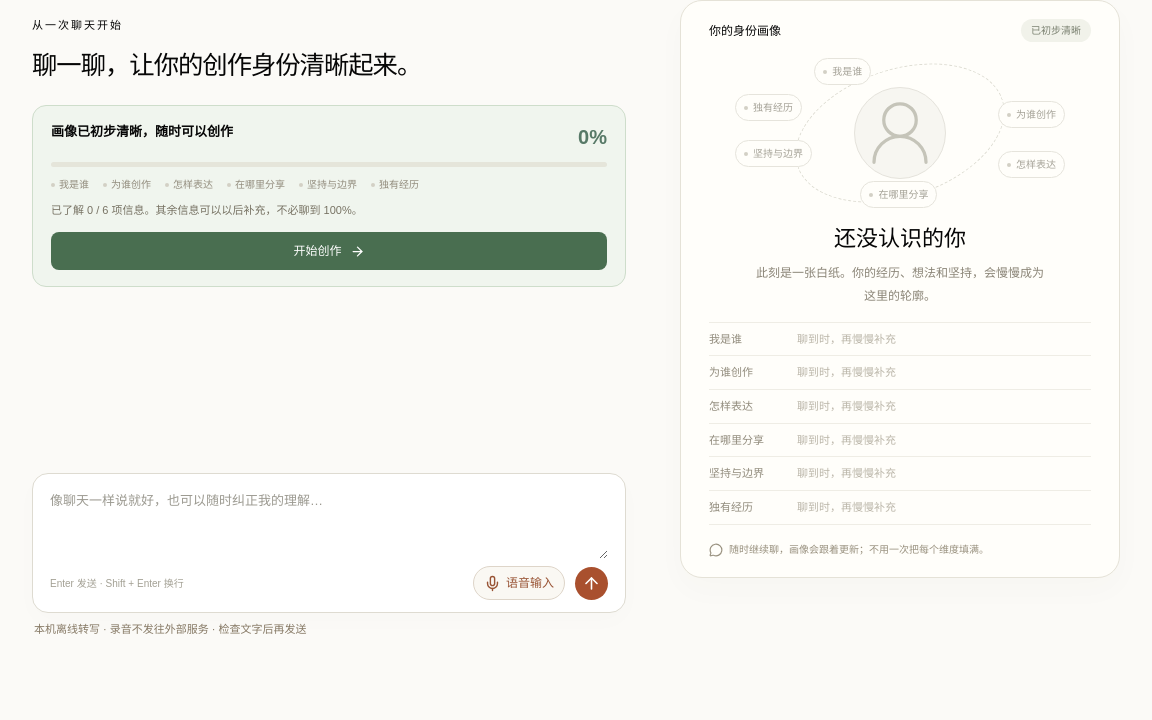
Test: local voice input › keeps original text on transcription failure and never falls back to a remote recognizer
This screenshot has width=1152, height=720.
Type "保留我" into the text box. click: (329, 524)
box: [50,489,608,559]
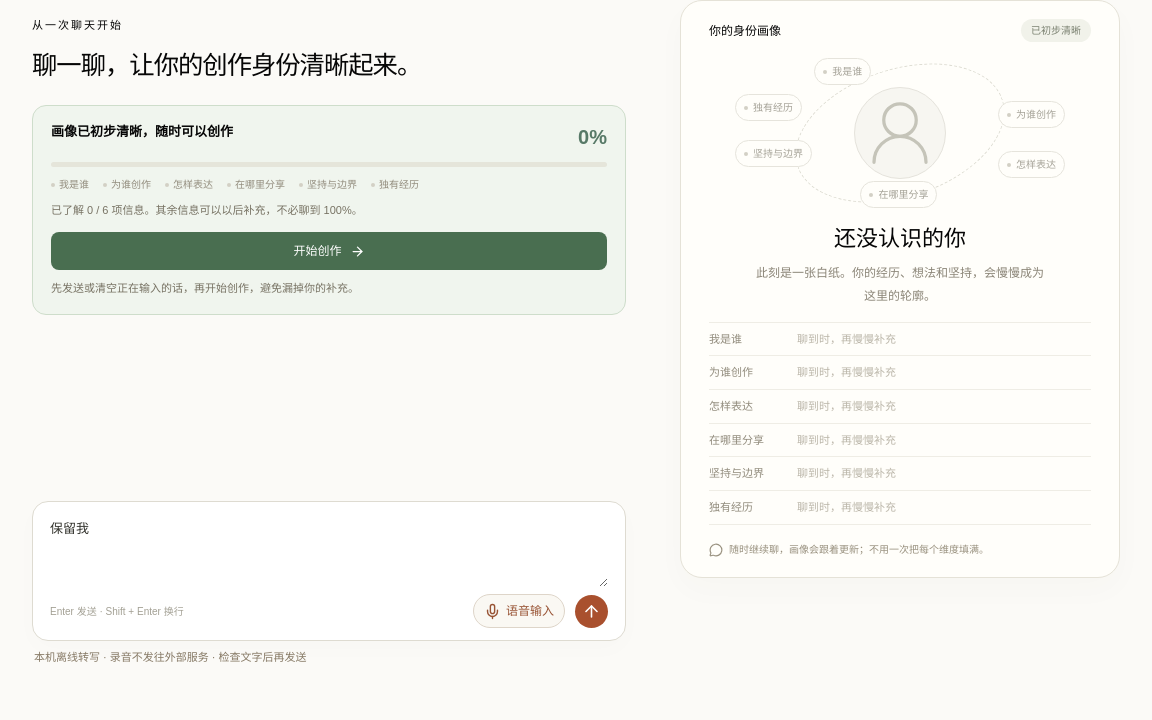
Click the button with aria-label "开始语音输入". click: (519, 611)
box: [473,594,565,628]
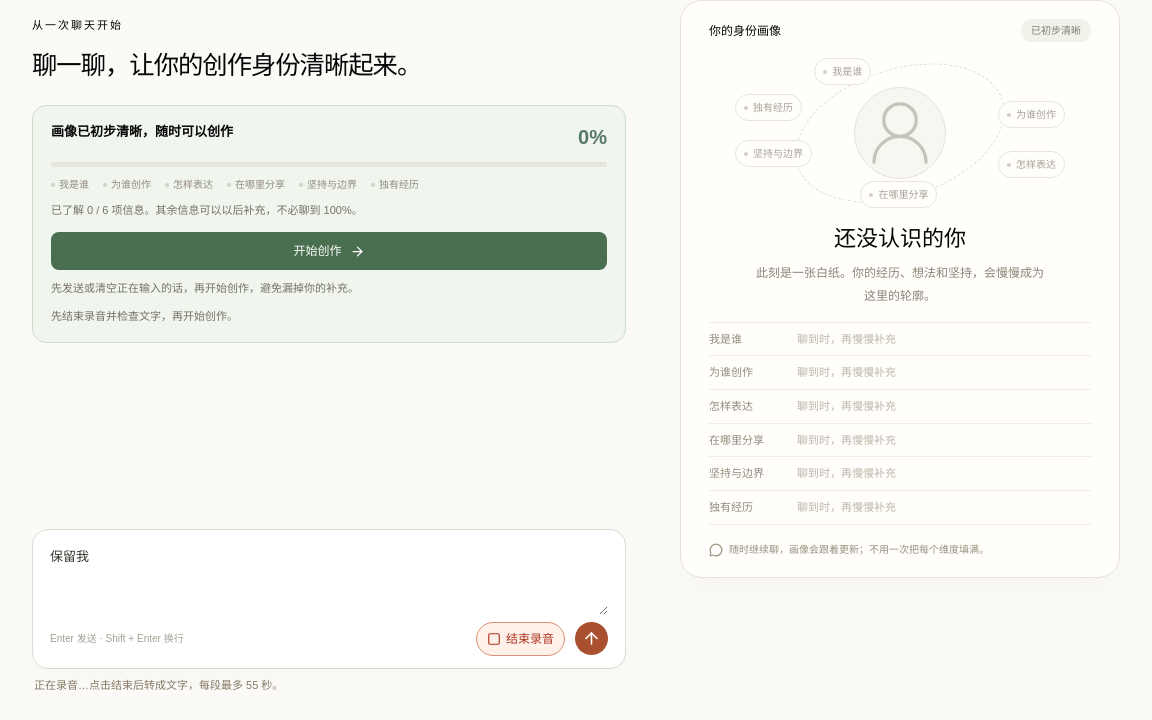
Now the message shows "正在录音", box [34,679,283,691]
Click the button with aria-label "停止语音输入". click: (520, 639)
box: [476,622,565,656]
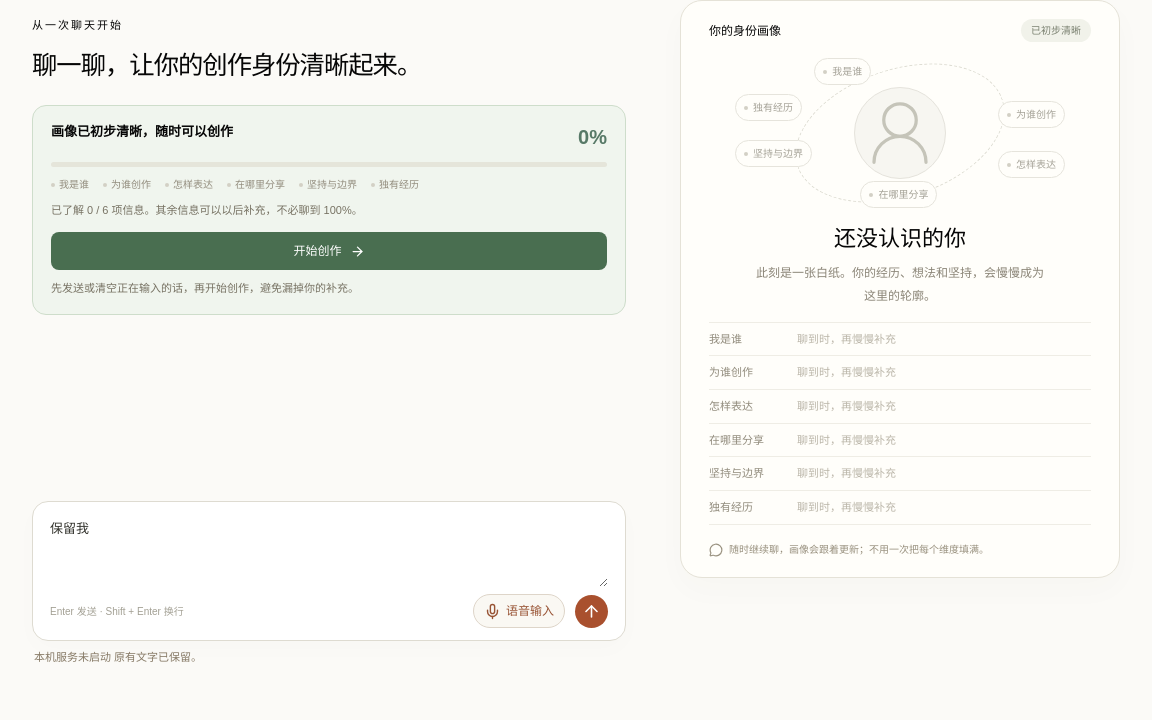
Now the message shows "本机服务未启动", box [34,651,202,663]
